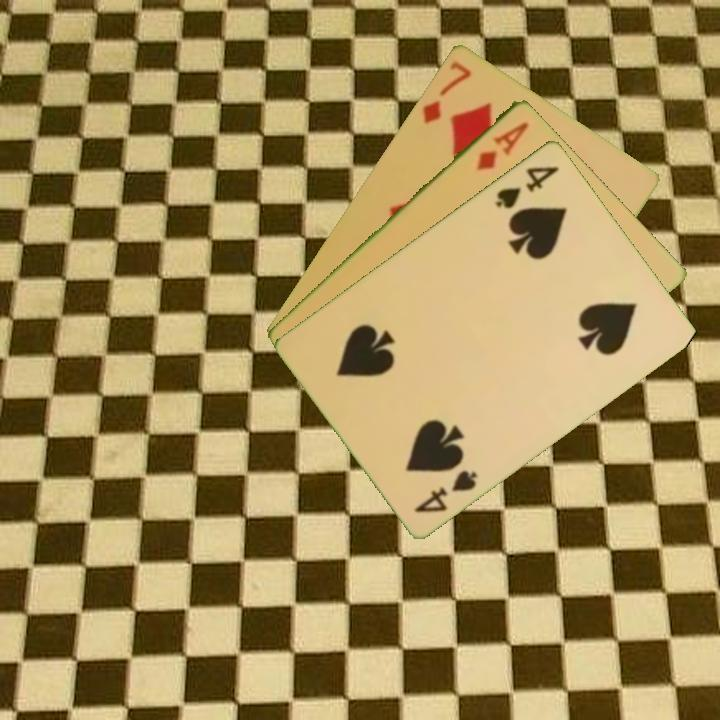4s: (491, 161, 563, 211), (411, 466, 481, 515)
7d: (418, 57, 475, 126)
Ad: (472, 118, 532, 173)
